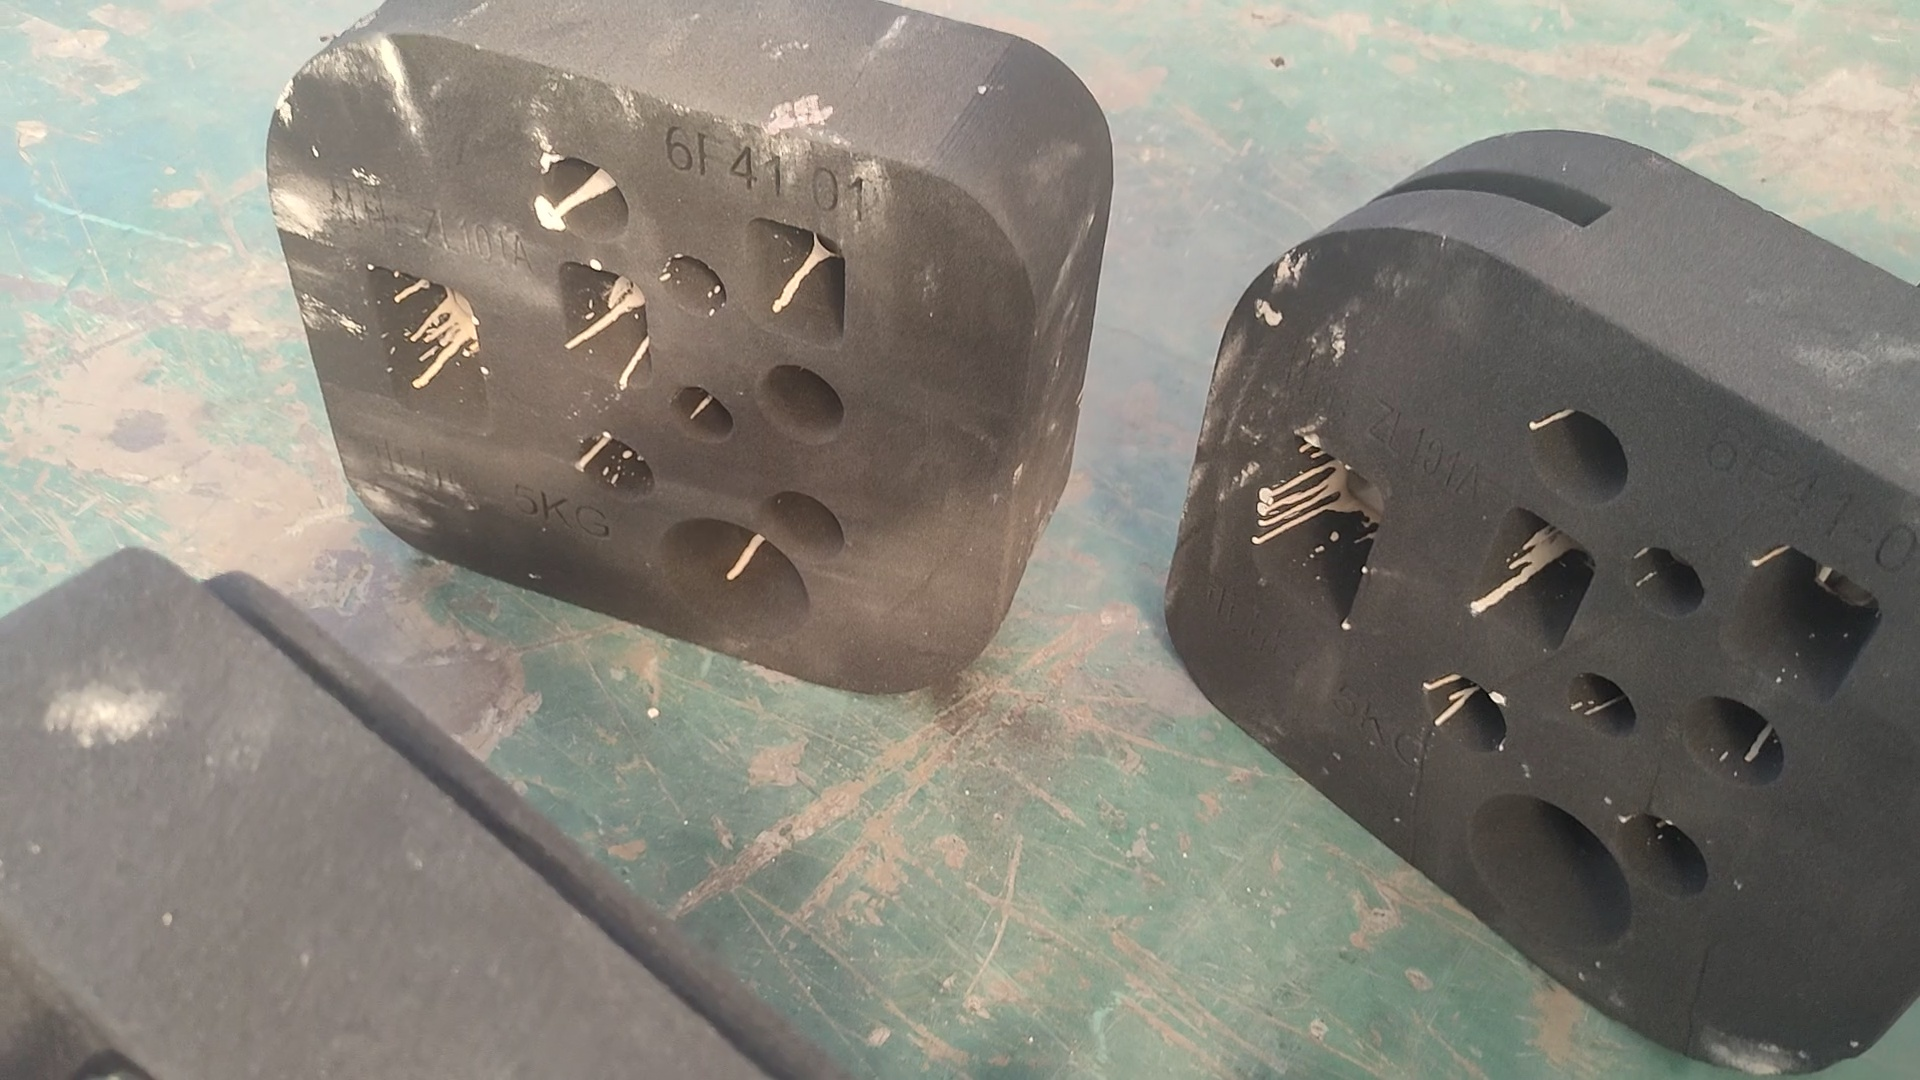pouring hole: (1465, 793, 1636, 955), (653, 516, 814, 641)
